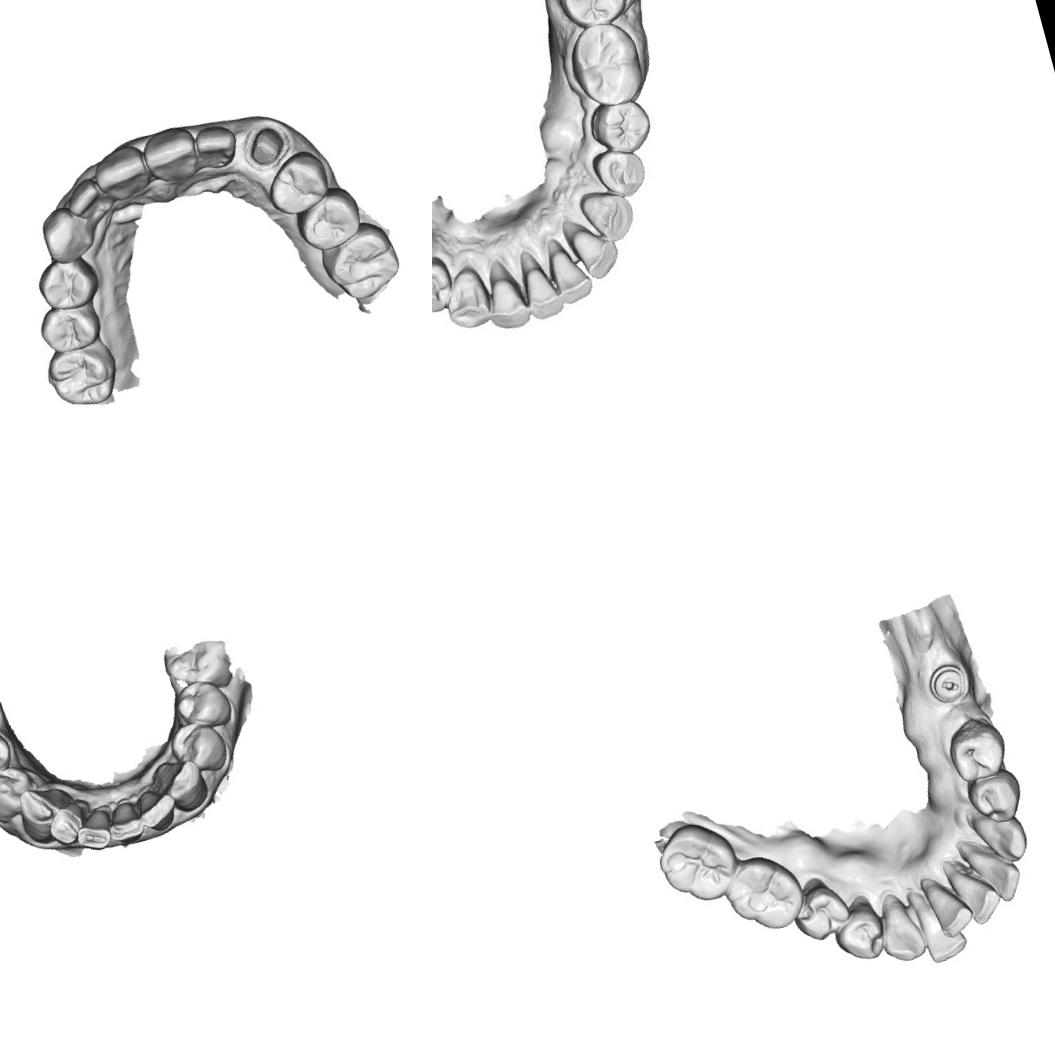canine: (964, 796, 1036, 872), (868, 887, 928, 966), (576, 182, 644, 250), (35, 198, 100, 268), (148, 752, 213, 818), (13, 780, 66, 848), (440, 268, 494, 334)
crown: (236, 117, 294, 173)
implant_minus: (924, 660, 972, 708)
incisor: (87, 140, 156, 206), (476, 257, 534, 335), (138, 121, 202, 188), (540, 240, 596, 310), (563, 220, 625, 283), (923, 874, 977, 940), (518, 250, 566, 324), (914, 905, 972, 966), (953, 867, 1007, 928), (976, 848, 1028, 906), (60, 172, 114, 226), (190, 118, 243, 173), (133, 784, 182, 836), (42, 799, 90, 849), (102, 798, 146, 847), (70, 806, 114, 854)
molar: (650, 812, 746, 912), (562, 12, 654, 114), (716, 844, 812, 940), (312, 212, 406, 308), (41, 331, 125, 414), (288, 179, 368, 256), (544, 0, 635, 35)
premolar: (259, 145, 334, 220), (940, 710, 1012, 786), (784, 876, 856, 946), (583, 90, 657, 158), (826, 890, 892, 966), (31, 249, 104, 316), (34, 295, 107, 358), (164, 714, 232, 781), (961, 763, 1028, 830), (585, 140, 654, 205), (170, 673, 236, 735), (0, 760, 40, 827), (432, 251, 459, 320), (0, 724, 18, 790)
